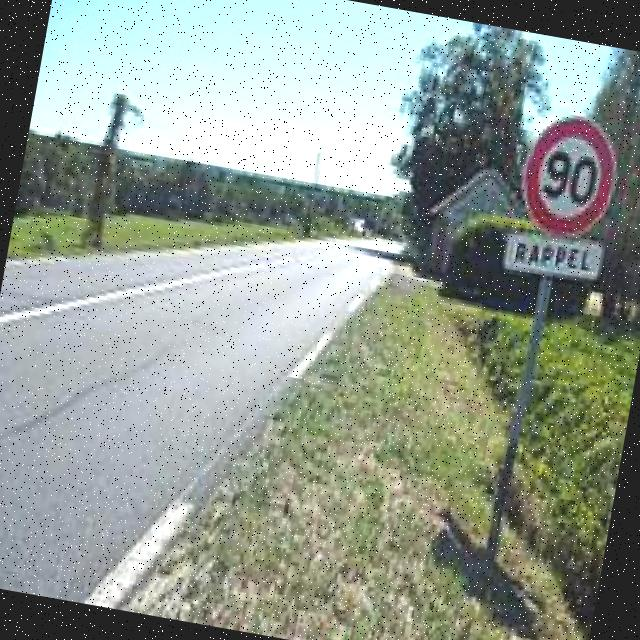Ograniczenie predkosci do 90: (516, 106, 622, 241)
